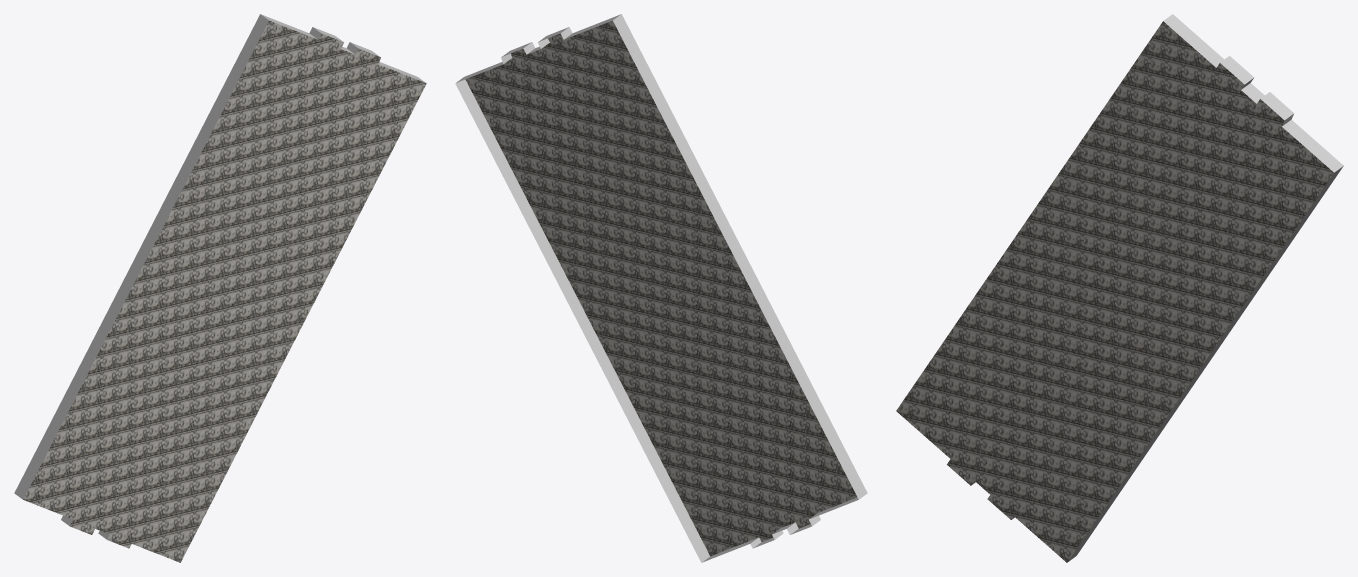
File: geospecific_166.obj
The picture shows the model from 3 angles, left to right: view 1: azimuth 30°, elevation 25°; view 2: azimuth 150°, elevation 25°; view 3: azimuth 330°, elevation 25°; orthographic projection. The views are drawn at different scales.
Parts seen in each view (by area): view 1: Building; view 2: Building; view 3: Building.
Boxes of the visible parts, <box> form: Building: <box>14,14,426,562</box>; Building: <box>455,14,867,562</box>; Building: <box>896,14,1343,562</box>.
Bounding box in the file's own units: 78.23 × 96.45 × 3.
